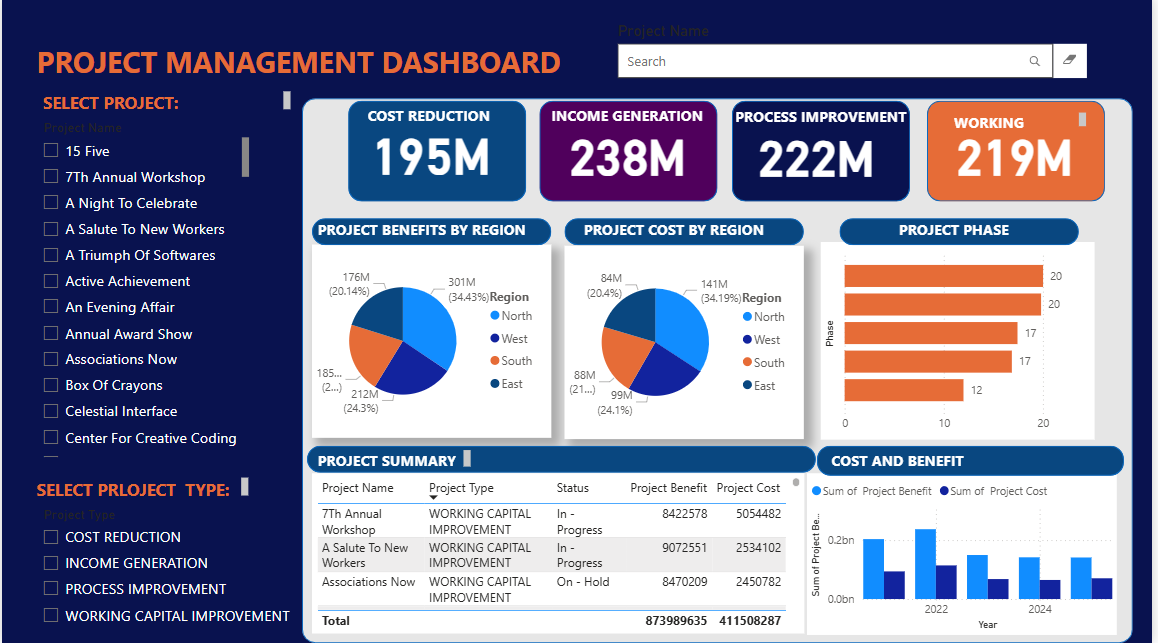

Layout of this report page (visuals, bound fields, positions):
{"tool":"powerbi","page":{"name":"project managment dashboard","canvas":[1280,720],"ordinal":0},"visuals":[{"type":"shape","box":[0,0,1280,720],"z":0},{"type":"textbox","box":[34,28,702,72],"z":1000},{"type":"textFilter25A4896A83E0487089E2B90C9AE57C8A","fields":{"field":["Project Management Dataset.Project Name"]},"box":[680,28,532,104],"z":2000},{"type":"slicer","fields":{"Values":["Project Management Dataset.Project Name"]},"box":[33.3,131.7,246.7,385],"z":3000},{"type":"slicer","fields":{"Values":["Project Management Dataset.Project Type"]},"box":[34,562,300,158],"z":4000},{"type":"textbox","box":[40,100,286,32],"z":5000},{"type":"textbox","box":[34,530,246,32],"z":6000},{"type":"shape","box":[333.3,113.3,925,606.7],"z":7000},{"type":"shape","box":[386,116,198,112],"z":8000},{"type":"shape","box":[598,116,198,112],"z":9000},{"type":"shape","box":[812,116,198,112],"z":10000},{"type":"shape","box":[1030,116,198,112],"z":11000},{"type":"textbox","box":[402,116,196,32],"z":12000},{"type":"textbox","box":[606.7,115,190,33.3],"z":13000},{"type":"textbox","box":[811.8,116.4,213.6,32.7],"z":14000},{"type":"textbox","box":[1054.5,123.6,157.3,31.8],"z":15000},{"type":"card","fields":{"Values":["Sum(Project Management Dataset. Project Benefit )"]},"box":[370,118.3,215,106.7],"z":16000},{"type":"card","fields":{"Values":["Sum(Project Management Dataset. Project Benefit )"]},"box":[583.3,135,226.7,75],"z":17000},{"type":"card","fields":{"Values":["Sum(Project Management Dataset. Project Benefit )"]},"box":[810,125,193.3,96.7],"z":18000},{"type":"card","fields":{"Values":["Sum(Project Management Dataset. Project Benefit )"]},"box":[1030,130,195,86.7],"z":19000},{"type":"pieChart","title":"  Project Benefit  by Region","fields":{"Category":["Project Management Dataset.Region"],"Y":["Sum(Project Management Dataset. Project Benefit )"]},"box":[345,275,266.7,215],"z":20000},{"type":"shape","box":[345,246.7,266.7,30],"z":21000},{"type":"textbox","box":[346.7,241.7,251.7,40],"z":22000},{"type":"pieChart","title":"  Project Benefit  by Region","fields":{"Category":["Project Management Dataset.Region"],"Y":["Sum(Project Management Dataset. Project Cost )"]},"box":[626.7,276.7,266.7,215],"z":23000},{"type":"shape","box":[626.7,246.7,266.7,30],"z":24000},{"type":"barChart","fields":{"Y":["Sum(Project Management Dataset.Completion%)"],"Category":["Project Management Dataset.Phase"]},"box":[911.7,273.3,305,220],"z":25000},{"type":"textbox","box":[643.3,241.7,233.3,40],"z":26000},{"type":"shape","box":[931.7,246.7,266.7,30],"z":27000},{"type":"tableEx","fields":{"Values":["Project Management Dataset.Project Name","Project Management Dataset.Project Type","Project Management Dataset.Status","Sum(Project Management Dataset. Project Benefit )","Sum(Project Management Dataset. Project Cost )"]},"box":[345,530,548.3,178.3],"z":28000},{"type":"textbox","box":[993.3,241.7,143.3,40],"z":29000},{"type":"shape","box":[340,500,566.7,30],"z":30000},{"type":"textbox","box":[346.7,500,180,30],"z":31000},{"type":"clusteredColumnChart","fields":{"Category":["Project Management Dataset.Year"],"Y":["Sum(Project Management Dataset. Project Benefit )","Sum(Project Management Dataset. Project Cost )"]},"box":[896.7,530,345,180],"z":32000},{"type":"shape","box":[906.7,500,341.7,33.3],"z":33000},{"type":"textbox","box":[918.3,500,180,35],"z":34000}]}

Visuals, with their boxes in screenshot pixels (x1, y1, x2, y2), scaled from the page's 1280x720 canvas onto the 1158x643 screenshot:
shape: x1=0 y1=0 x2=1157 y2=642
textbox: x1=31 y1=25 x2=666 y2=89
textFilter25A4896A83E0487089E2B90C9AE57C8A - Project Management Dataset.Project Name: x1=615 y1=25 x2=1096 y2=118
slicer - Project Management Dataset.Project Name: x1=30 y1=118 x2=253 y2=461
slicer - Project Management Dataset.Project Type: x1=31 y1=502 x2=302 y2=642
textbox: x1=36 y1=89 x2=295 y2=118
textbox: x1=31 y1=473 x2=253 y2=502
shape: x1=302 y1=101 x2=1138 y2=642
shape: x1=349 y1=104 x2=528 y2=204
shape: x1=541 y1=104 x2=720 y2=204
shape: x1=735 y1=104 x2=914 y2=204
shape: x1=932 y1=104 x2=1111 y2=204
textbox: x1=364 y1=104 x2=541 y2=132
textbox: x1=549 y1=103 x2=721 y2=132
textbox: x1=734 y1=104 x2=928 y2=133
textbox: x1=954 y1=110 x2=1096 y2=139
card - Sum(Project Management Dataset. Project Benefit ): x1=335 y1=106 x2=529 y2=201
card - Sum(Project Management Dataset. Project Benefit ): x1=528 y1=121 x2=733 y2=188
card - Sum(Project Management Dataset. Project Benefit ): x1=733 y1=112 x2=908 y2=198
card - Sum(Project Management Dataset. Project Benefit ): x1=932 y1=116 x2=1108 y2=194
"  Project Benefit  by Region" pieChart: x1=312 y1=246 x2=553 y2=438
shape: x1=312 y1=220 x2=553 y2=247
textbox: x1=314 y1=216 x2=541 y2=252
"  Project Benefit  by Region" pieChart: x1=567 y1=247 x2=808 y2=439
shape: x1=567 y1=220 x2=808 y2=247
barChart - Sum(Project Management Dataset.Completion%) x Project Management Dataset.Phase: x1=825 y1=244 x2=1101 y2=441
textbox: x1=582 y1=216 x2=793 y2=252
shape: x1=843 y1=220 x2=1084 y2=247
tableEx - Project Management Dataset.Project Name x Project Management Dataset.Project Type: x1=312 y1=473 x2=808 y2=633
textbox: x1=899 y1=216 x2=1028 y2=252
shape: x1=308 y1=447 x2=820 y2=473
textbox: x1=314 y1=447 x2=476 y2=473
clusteredColumnChart - Project Management Dataset.Year x Sum(Project Management Dataset. Project Benefit ): x1=811 y1=473 x2=1123 y2=634
shape: x1=820 y1=447 x2=1129 y2=476
textbox: x1=831 y1=447 x2=994 y2=478
